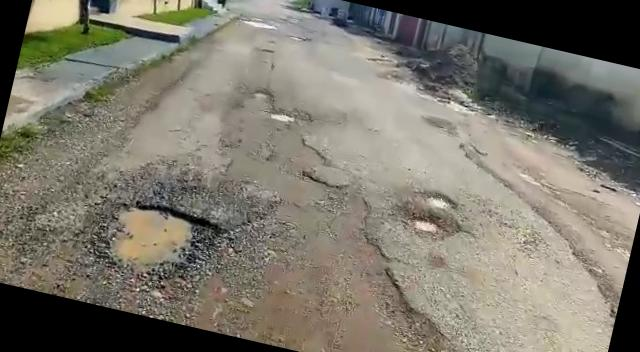pothole: (91, 192, 220, 291), (406, 212, 448, 239), (418, 188, 458, 213), (268, 108, 296, 126), (250, 86, 276, 104)
